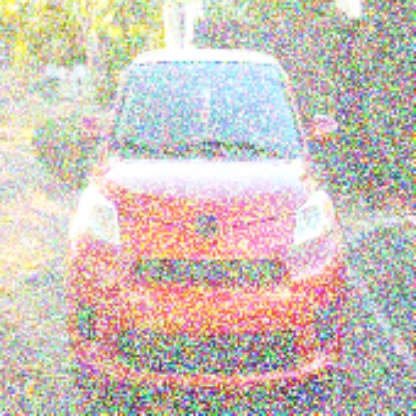Vehicle: (63, 46, 352, 408)
